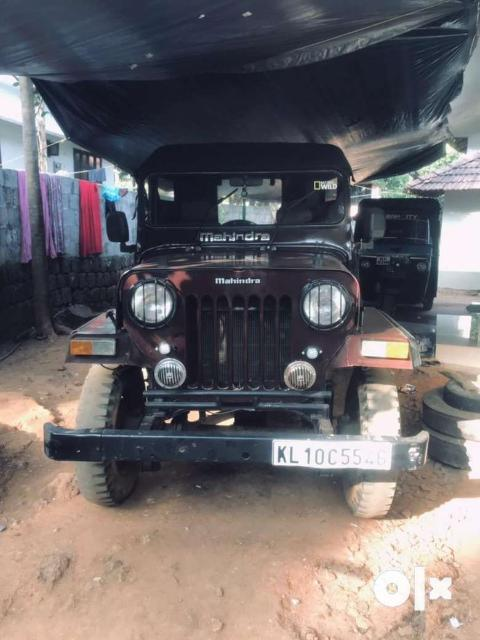Indian_Number_Plate: (274, 441, 392, 469)
